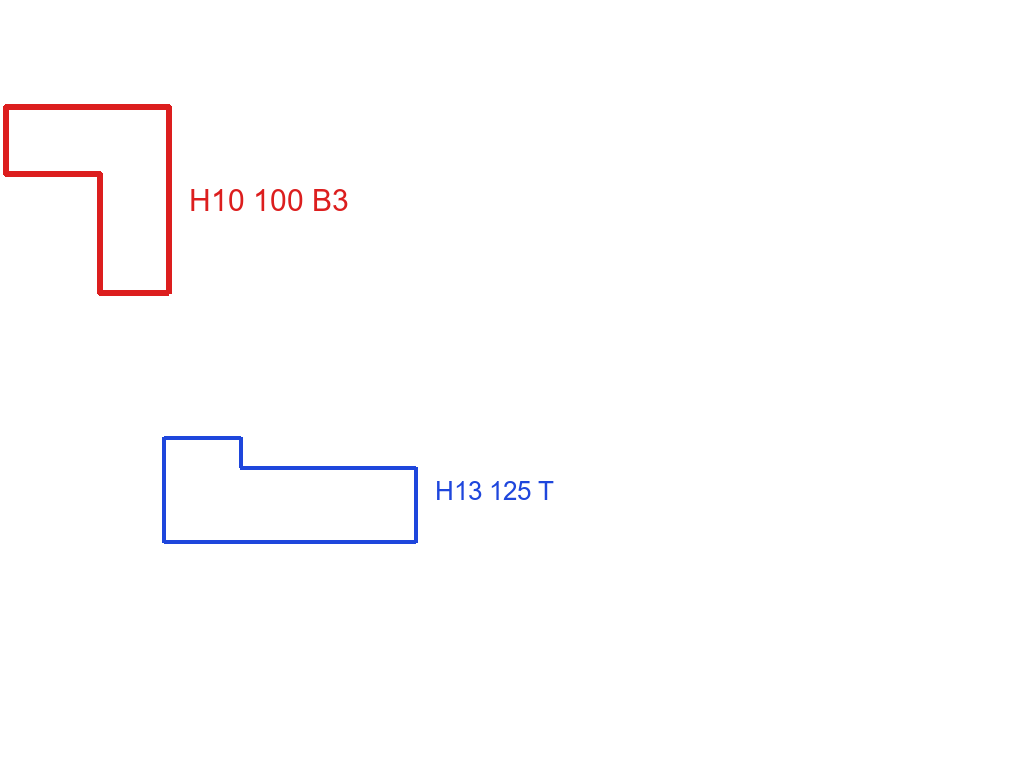shape: (1, 101, 174, 298), (161, 434, 419, 547)
text: (187, 187, 351, 213), (433, 479, 556, 502)
